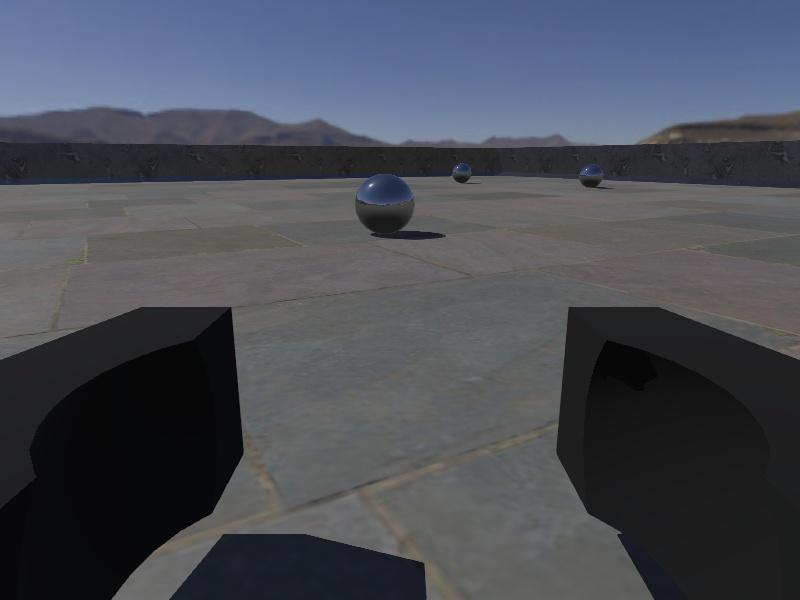steel ball: (354, 172, 416, 235), (578, 162, 605, 189), (452, 162, 472, 182)
